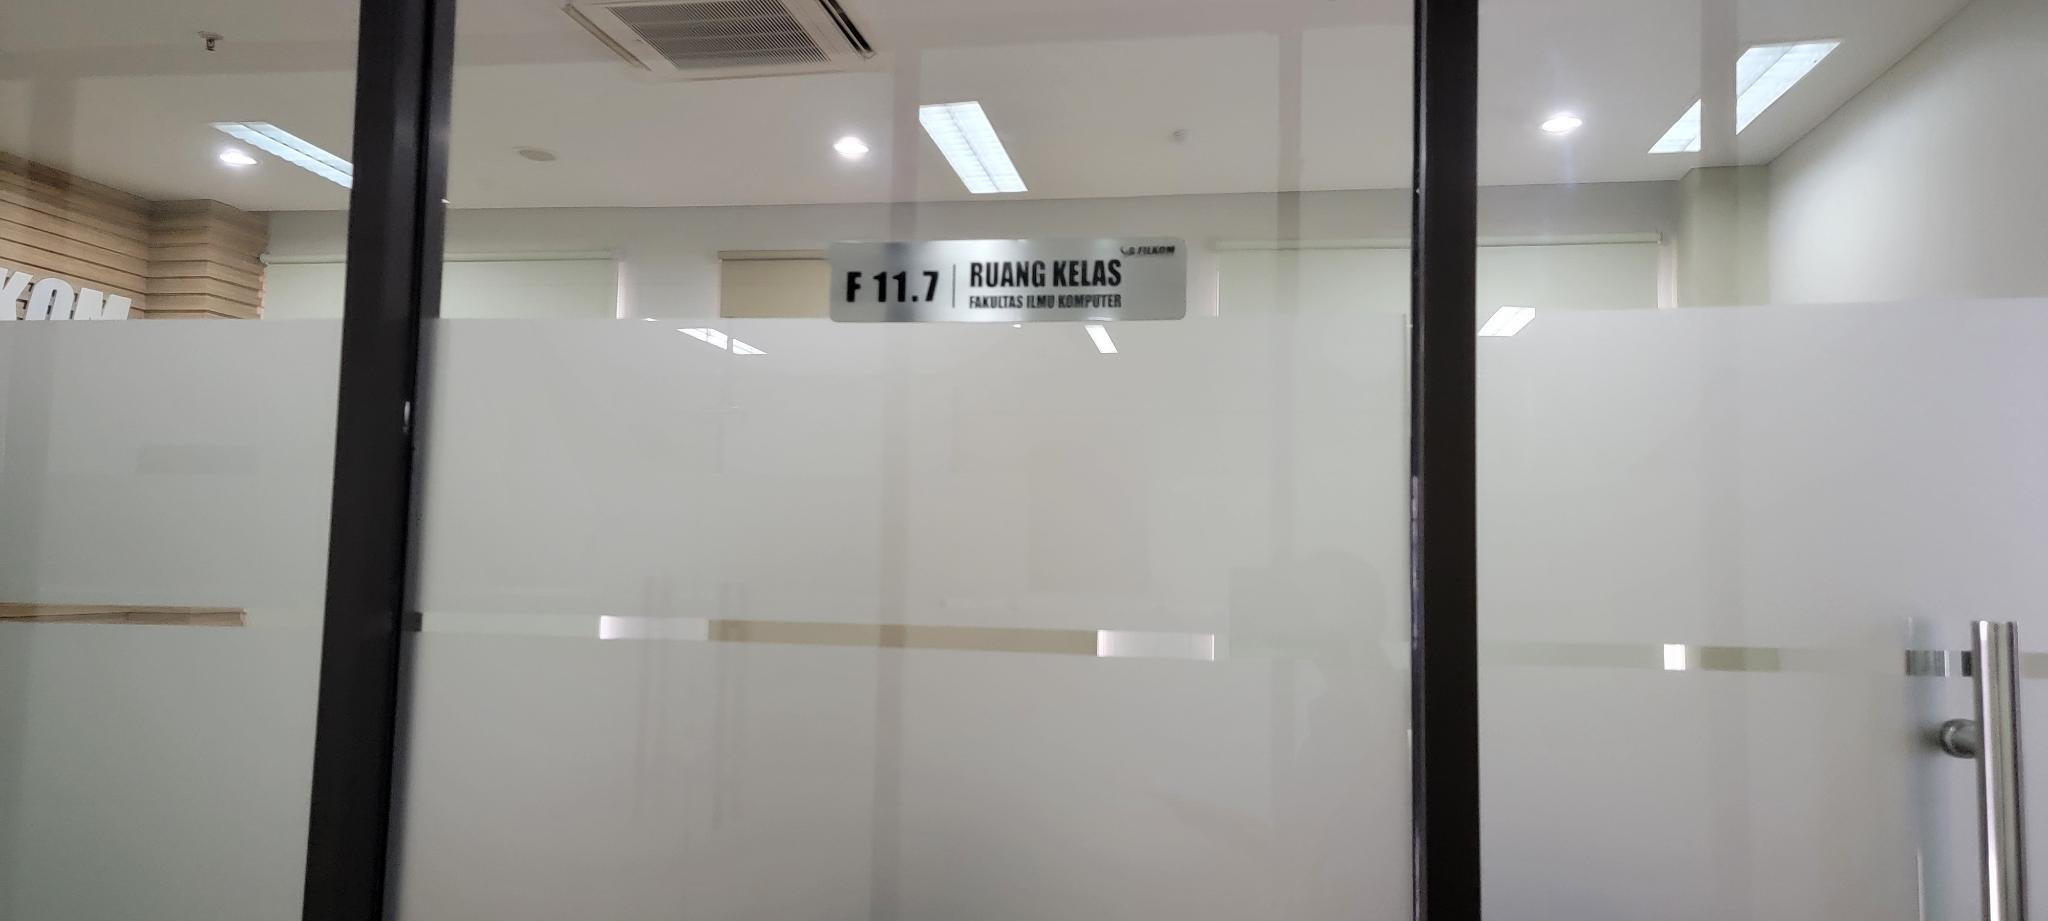plate: (824, 236, 1187, 325)
